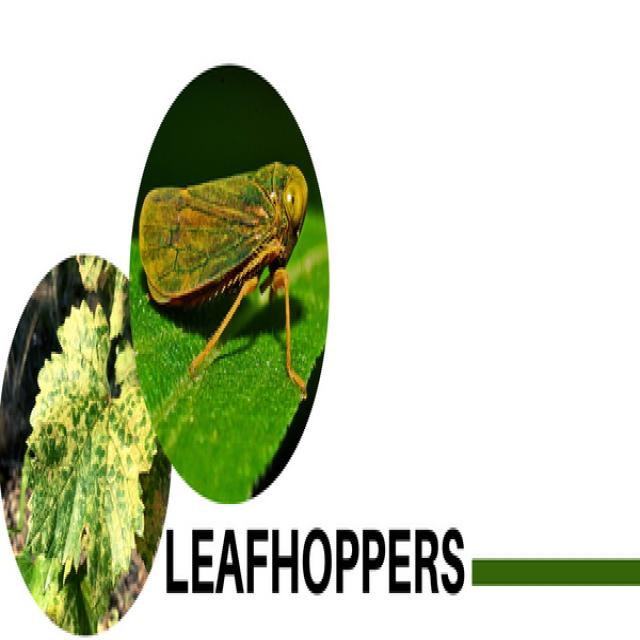Yechan: (136, 160, 312, 334)
